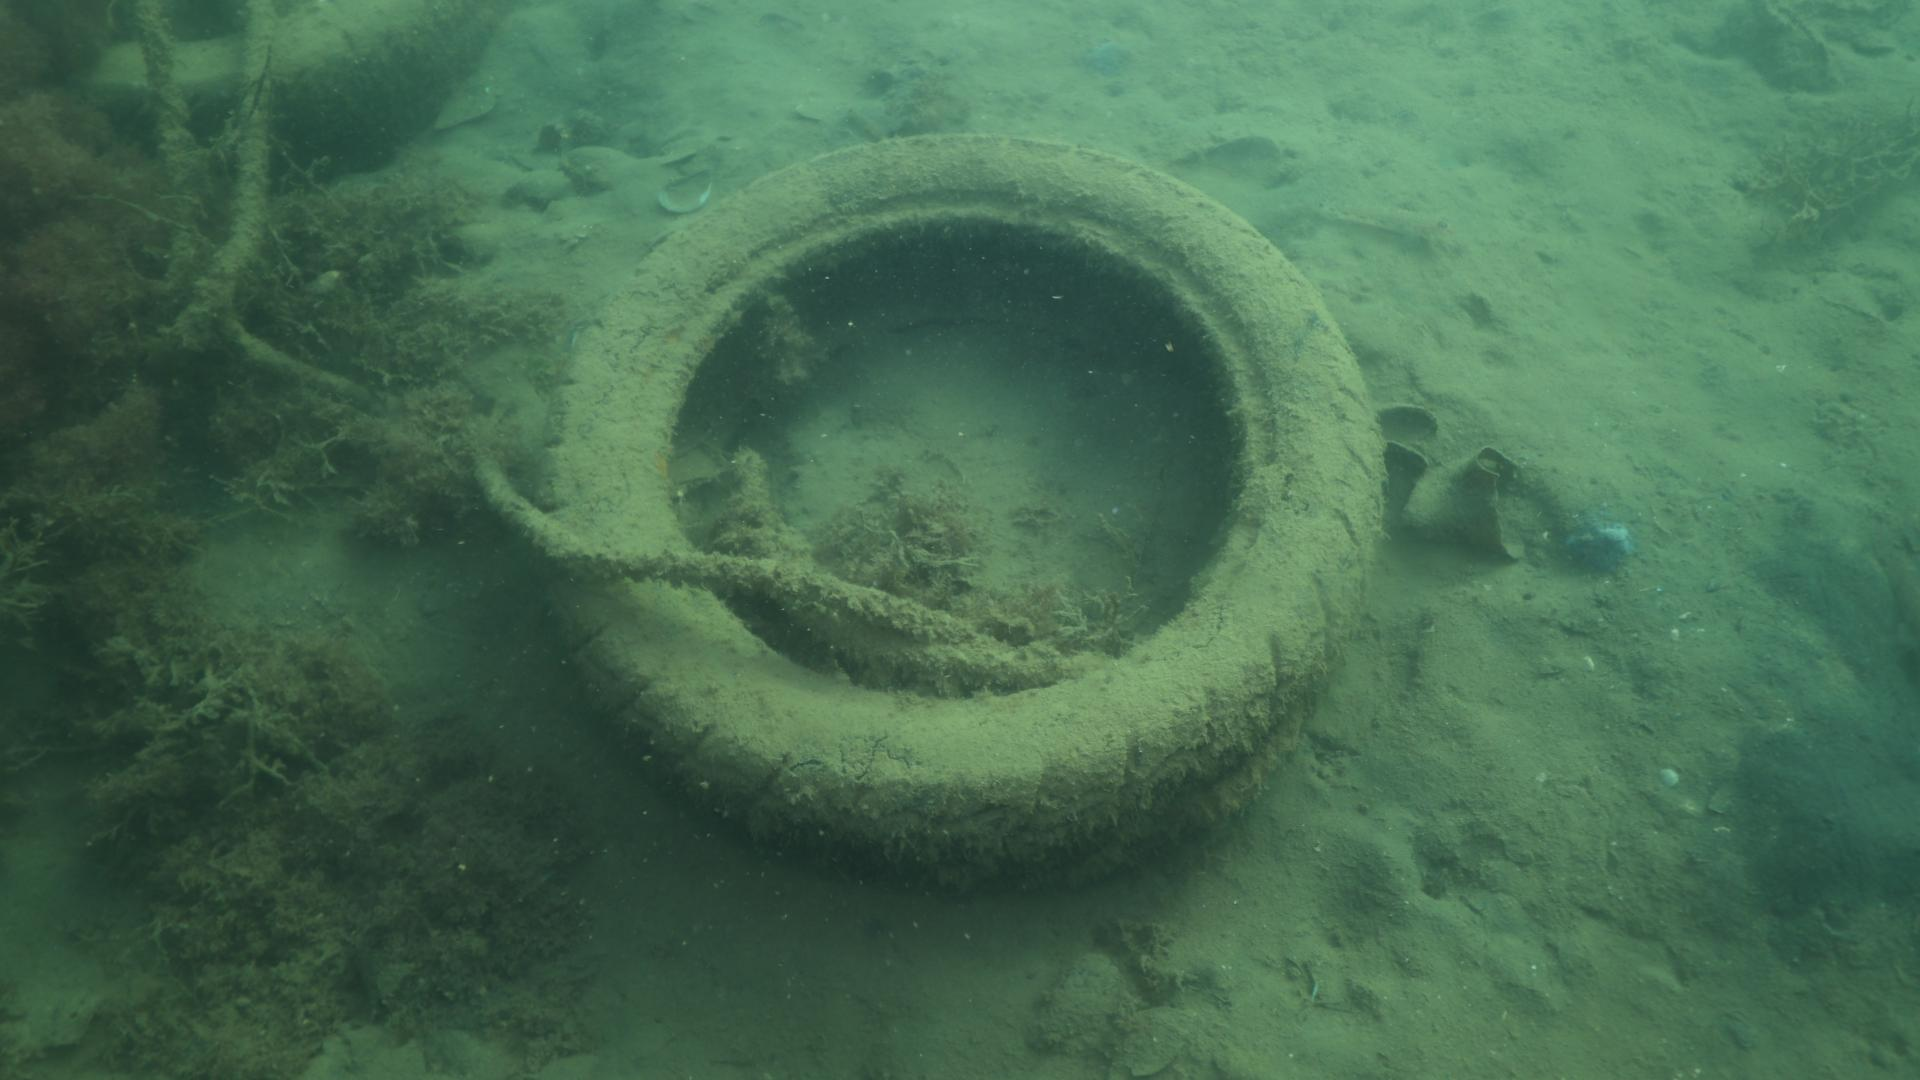bundle of ropes: (467, 444, 1124, 683)
tire: (535, 131, 1390, 887)
